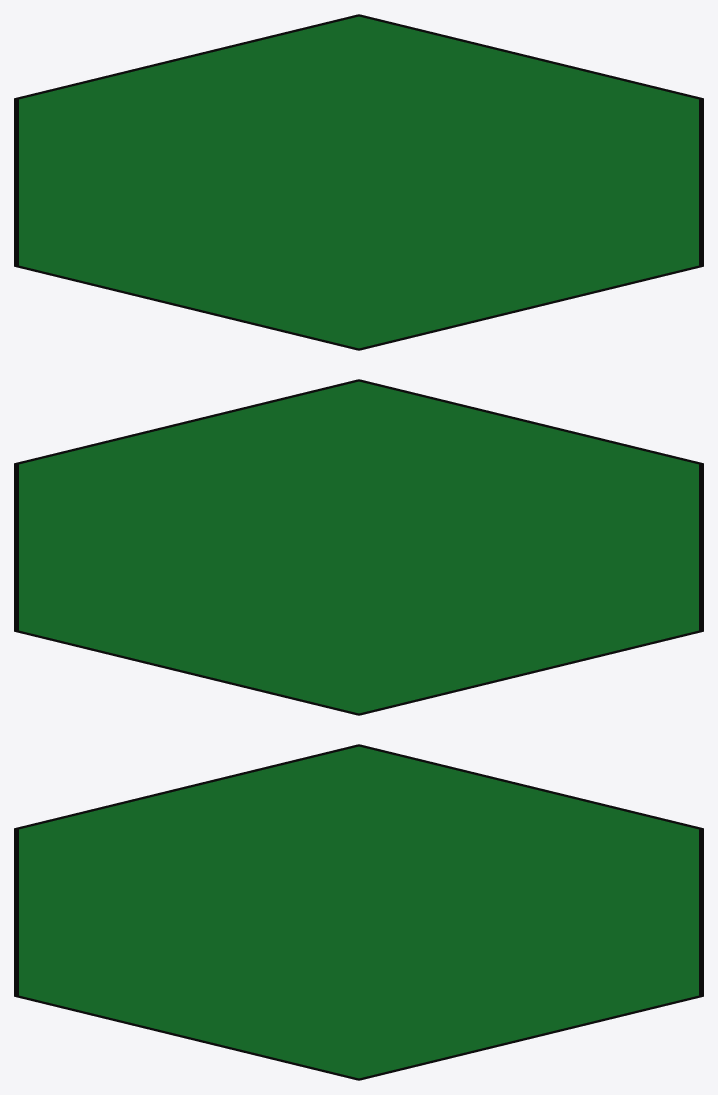
File: hextile2Surface.fbx
3 views of the same model, one above another, from view 1: azimuth 30°, elevation 25°; view 2: azimuth 150°, elevation 25°; view 3: azimuth 270°, elevation 25° (orthographic).
Parts seen in each view (by area): view 1: Tile; view 2: Tile; view 3: Tile.
Part boxes in pixels (bbox=[...]): Tile: bbox=[14, 14, 703, 350]; Tile: bbox=[14, 379, 703, 715]; Tile: bbox=[14, 744, 703, 1080].
Bounding box in the file's own units: 500 × 7.05e-05 × 433.
